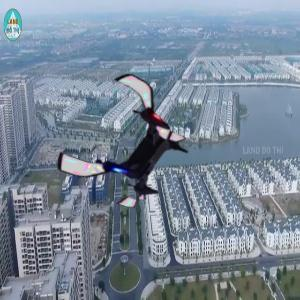drone: (62, 74, 197, 209)
